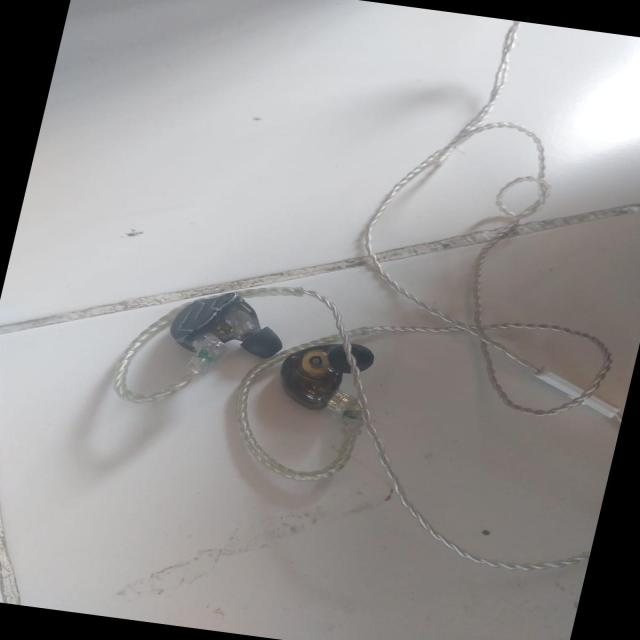earphone: (77, 82, 536, 578)
